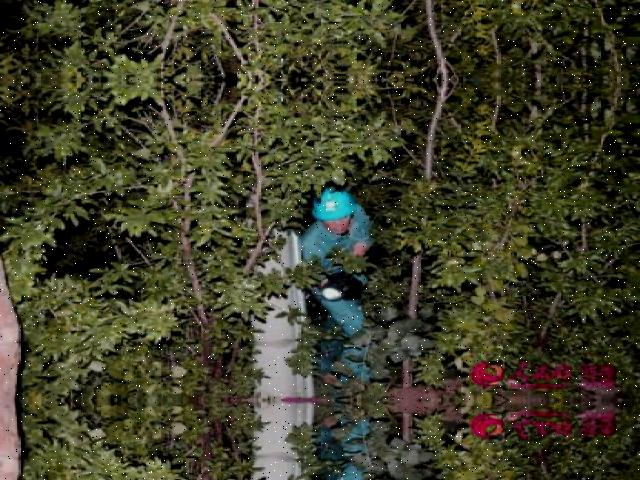Helmet: (305, 184, 356, 224)
